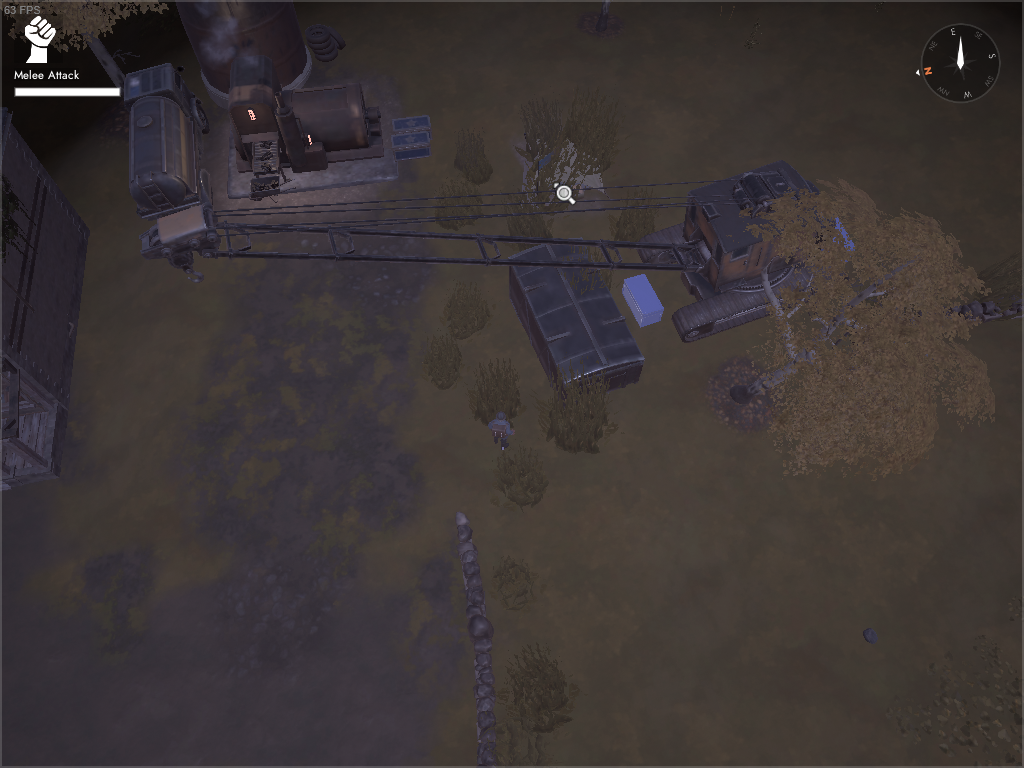container: (510, 235, 645, 404)
crane: (137, 157, 848, 346)
foxhole: (504, 114, 629, 214)
player: (487, 411, 513, 451)
storage_box: (620, 272, 666, 328), (825, 209, 857, 257), (389, 131, 432, 163), (390, 112, 434, 135)
tanker: (120, 61, 216, 223)
